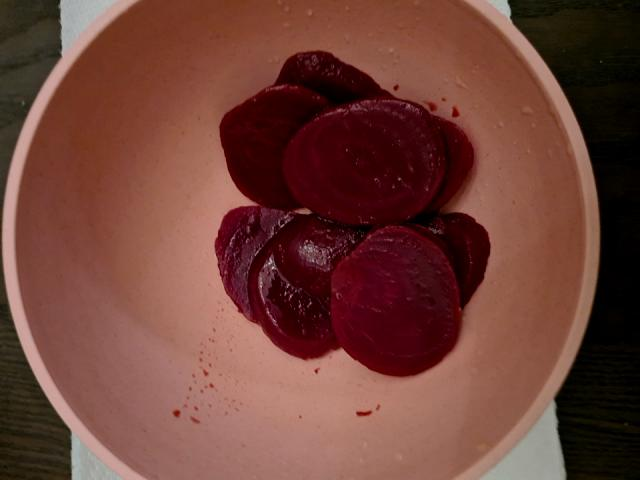kichen waste: (215, 51, 490, 373)
